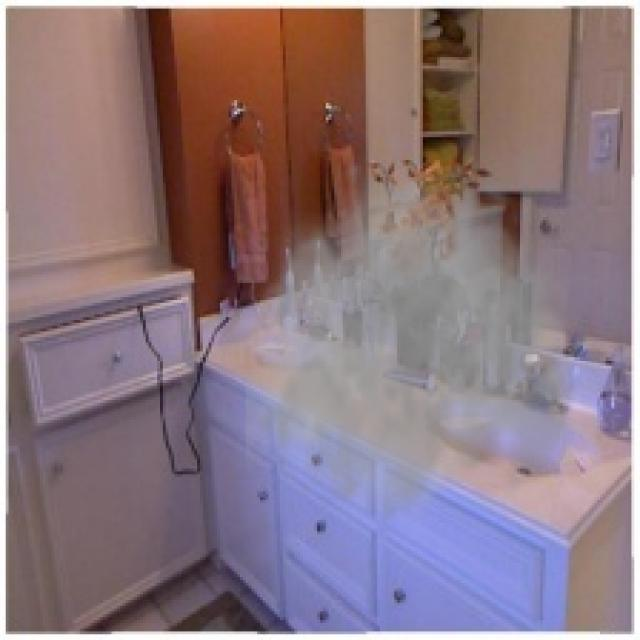smoke: (245, 148, 606, 532)
